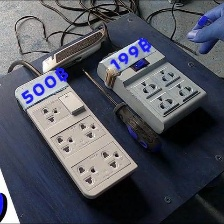three_eye_plug: (9, 65, 141, 206), (92, 36, 210, 138)
